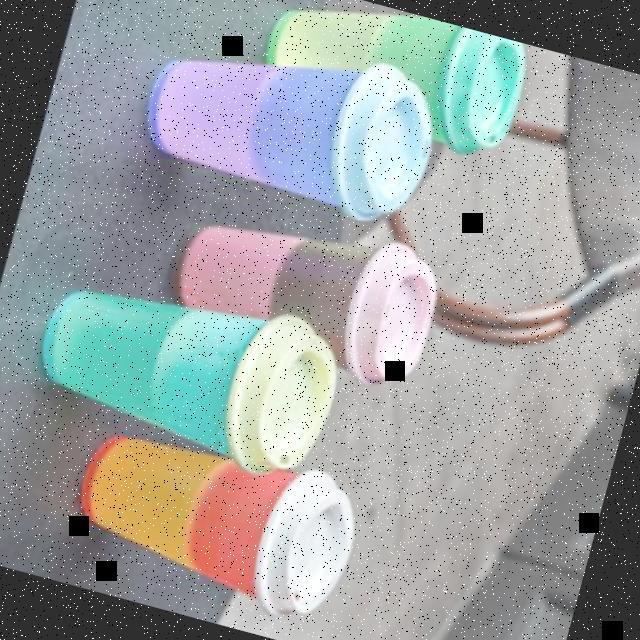plastic_cup: (21, 256, 348, 488), (130, 8, 448, 233), (61, 414, 367, 633), (160, 187, 448, 393), (250, 0, 532, 176)
